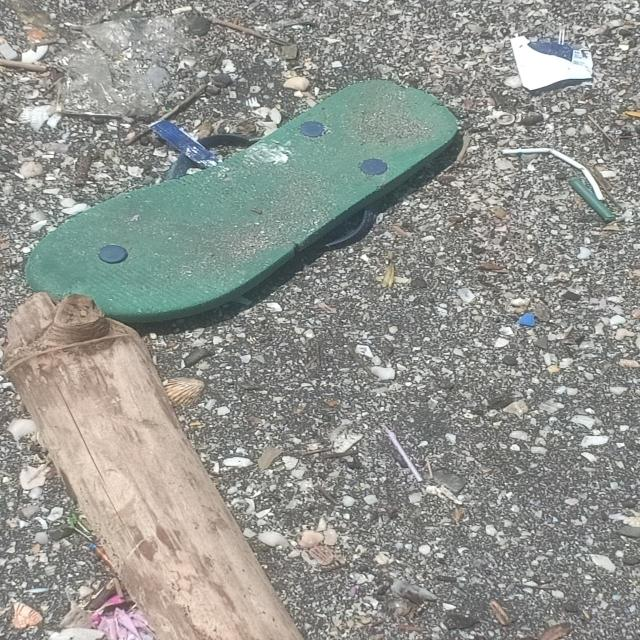plastic_waste: (510, 42, 596, 94)
rubber_waste: (29, 83, 468, 327)
wood_waste: (1, 294, 303, 640)
